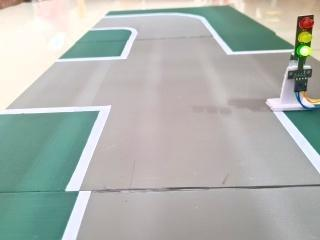green: (289, 13, 316, 71)
